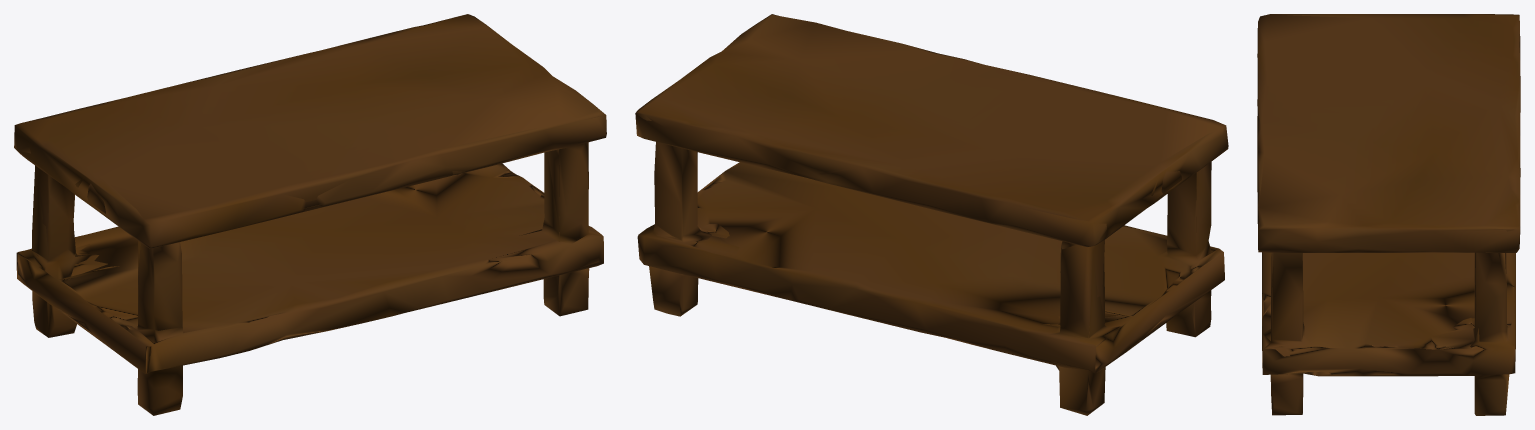
The model's file is gen3d-coffee-table-lod0.glb.
3 renders of one model, left to right at view 1: azimuth 30°, elevation 25°; view 2: azimuth 150°, elevation 25°; view 3: azimuth 270°, elevation 25°, orthographic. The views are drawn at different scales.
Visible parts, largest first — view 1: part_0; view 2: part_0; view 3: part_0.
Part boxes in pixels (x1,y1,x2,y2): part_0: [14, 14, 606, 415]; part_0: [635, 14, 1228, 415]; part_0: [1257, 14, 1520, 415].
Bounding box in the file's own units: 2.36 × 0.9999 × 1.22.
